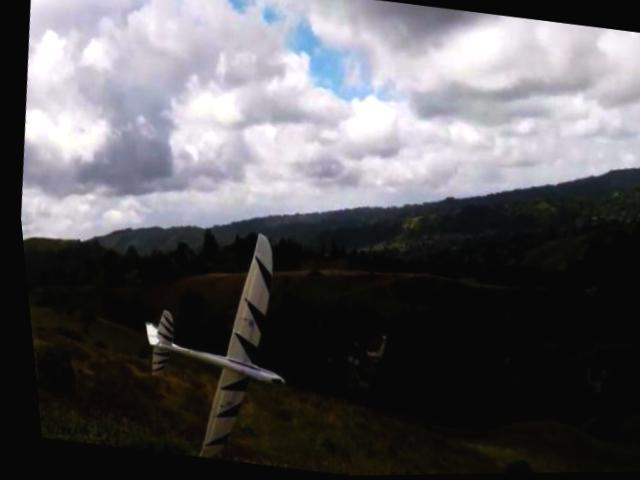iha: (114, 217, 302, 469)
